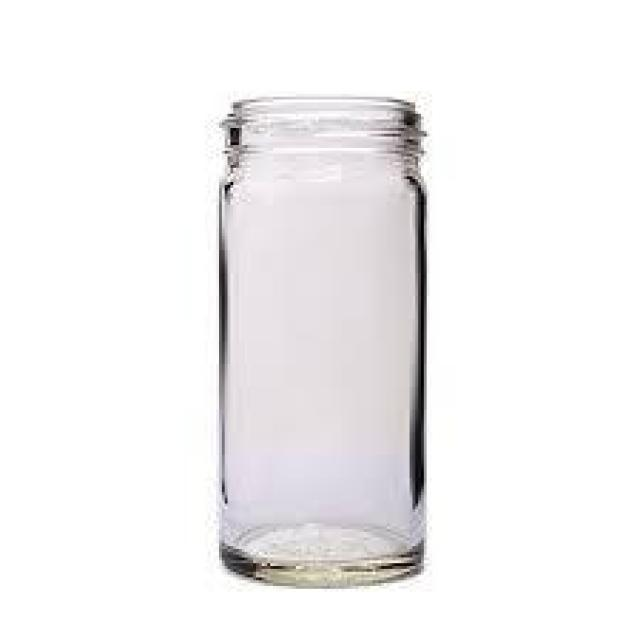Glass: (216, 93, 428, 592)
